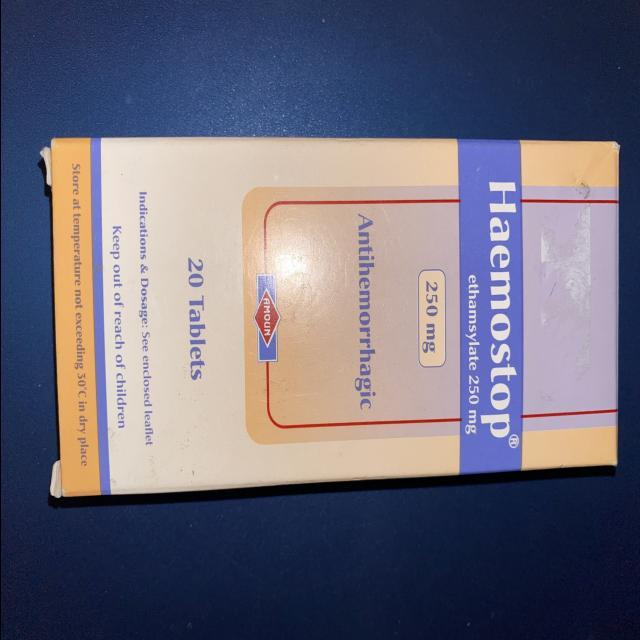Medicine Name: (476, 170, 520, 440)
